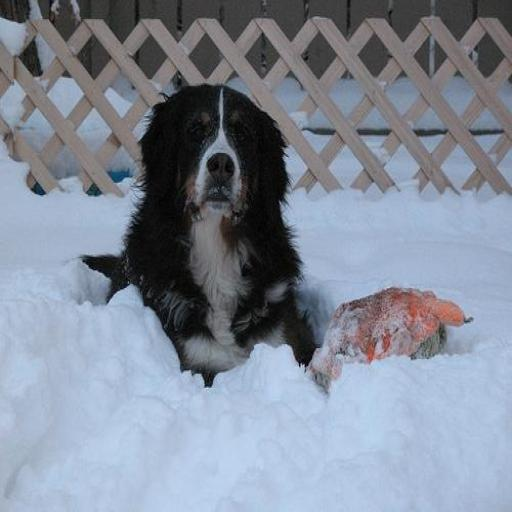dog_face: (154, 94, 276, 220)
